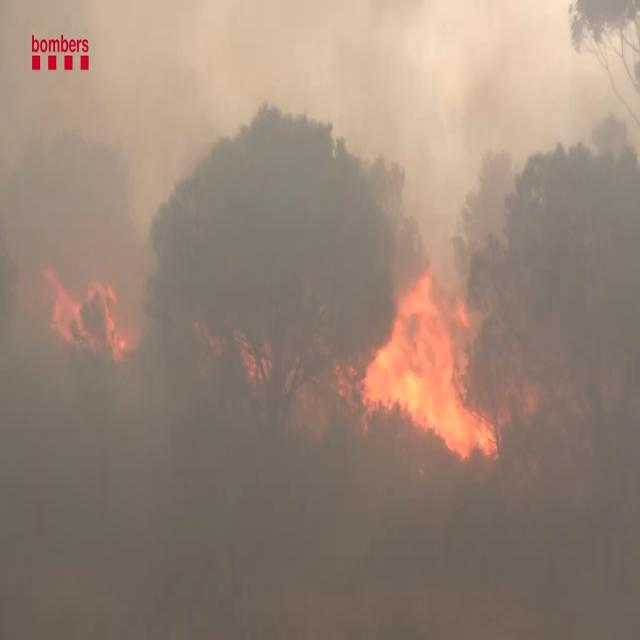Fire: (358, 258, 499, 458), (44, 262, 130, 358), (235, 327, 272, 389)
Smoke: (440, 2, 640, 322), (0, 1, 138, 427)
